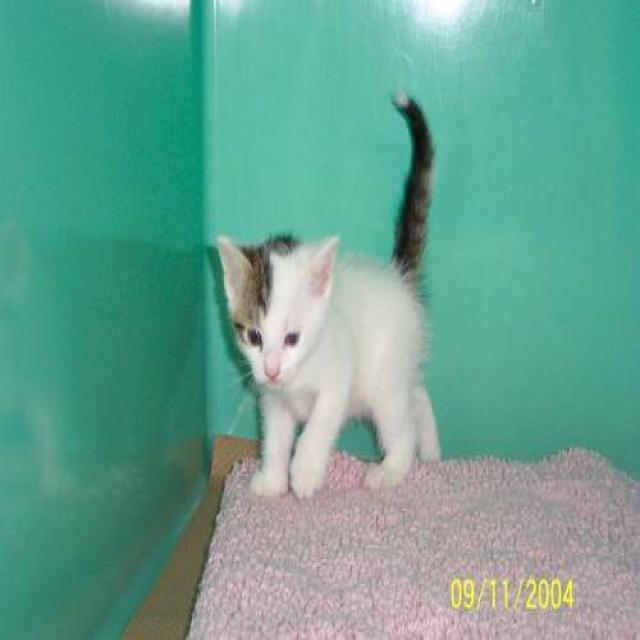cat: (214, 89, 442, 499)
